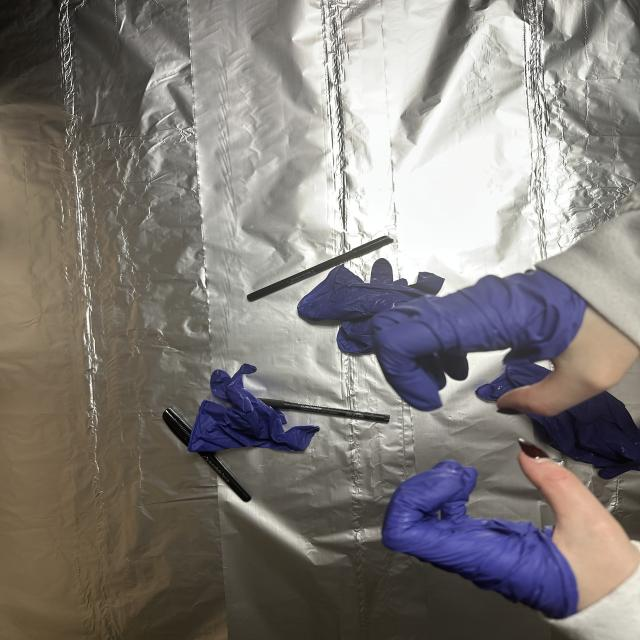glove_partial: (378, 436, 640, 626), (365, 261, 640, 428)
